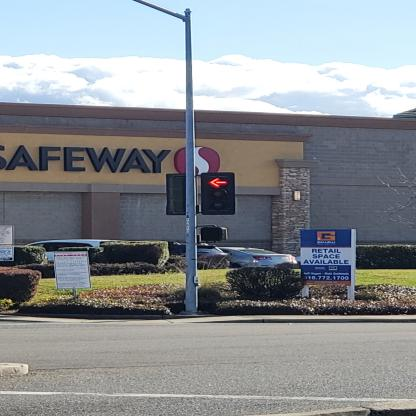left-red: (203, 173, 234, 214)
